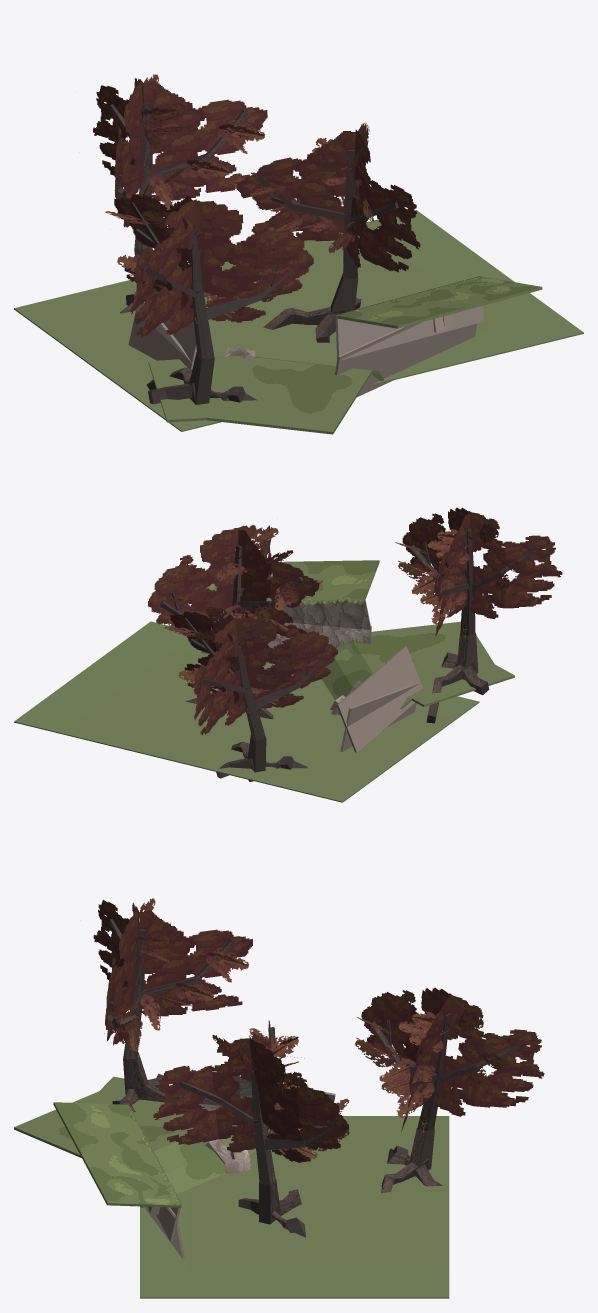
File: terrainplaceholder.gltf
The picture shows the model from 3 angles, top to bottom: view 1: azimuth 30°, elevation 25°; view 2: azimuth 150°, elevation 25°; view 3: azimuth 270°, elevation 25°; orthographic projection. The views are drawn at different scales.
Visible parts, largest first — view 1: cube (×24); view 2: cube (×26); view 3: cube (×23).
Part boxes in pixels (x1,y1,x2,y2): cube (×24): [14, 81, 583, 434]; cube (×26): [14, 512, 562, 802]; cube (×23): [14, 900, 544, 1298].
Size of the model in its own units: 25.73 by 14.57 by 27.65.
12 materials, 12 textured.
